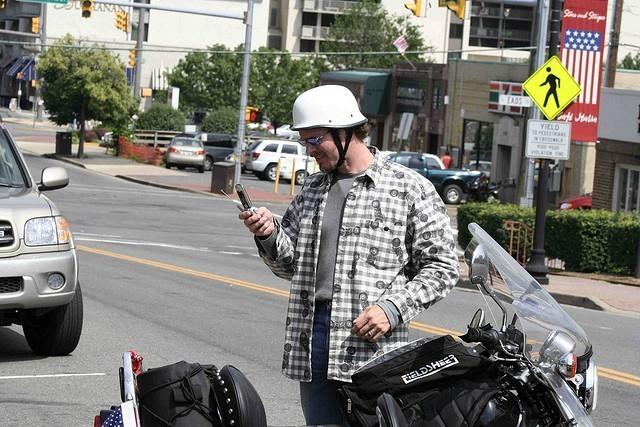car: (0, 125, 86, 358), (245, 140, 303, 180), (194, 132, 237, 170), (166, 136, 206, 174), (276, 154, 322, 186), (558, 191, 593, 210), (469, 160, 492, 177)
motorcycle: (86, 220, 606, 423)
truck: (386, 154, 488, 204)
